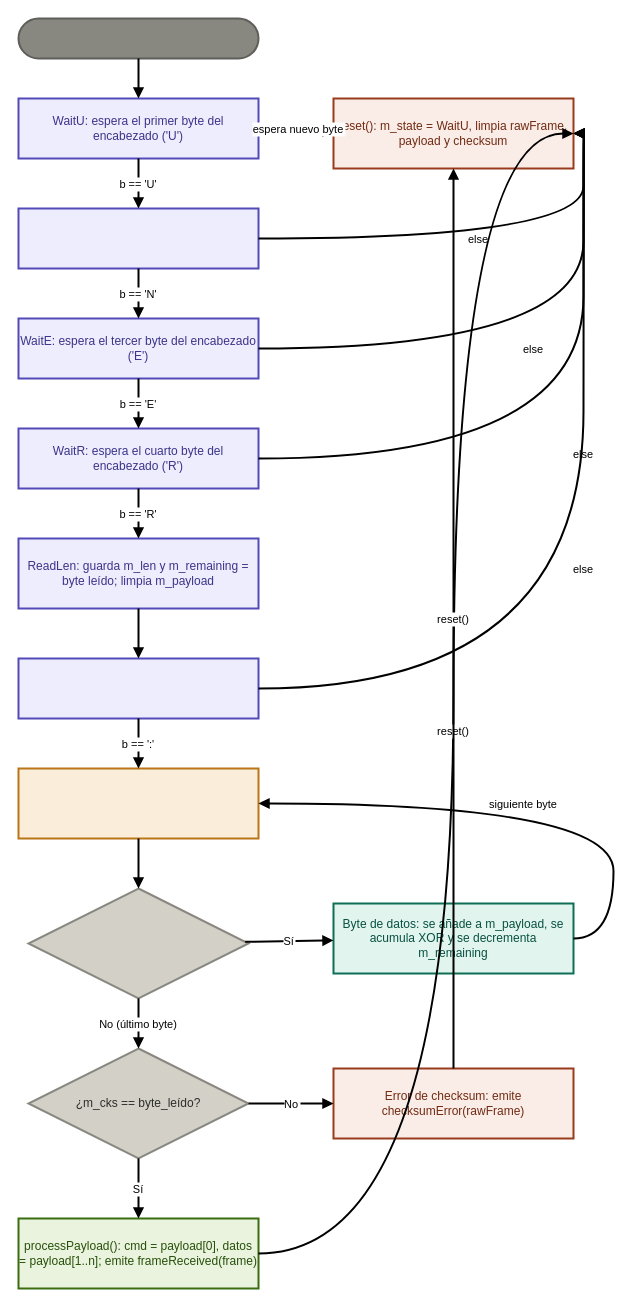
Image size: 632x1306. Some labels were removed from this diagram. The shapes that lost their labels are listed below. From the top down, each one's centre as x and y in pixels, then its label:
At [138,38]: "feed(data): llega un byte al decodificador UNER".
At [138,238]: "WaitN: espera el segundo byte del encabezado ('N')".
At [138,688]: "WaitColon: espera el token separador ':' (0x3A)".
At [138,803]: "ReadPayload: acumula bytes en m_payload y XOR acumulado en m_cks".
At [138,943]: "¿remaining > 1?".
